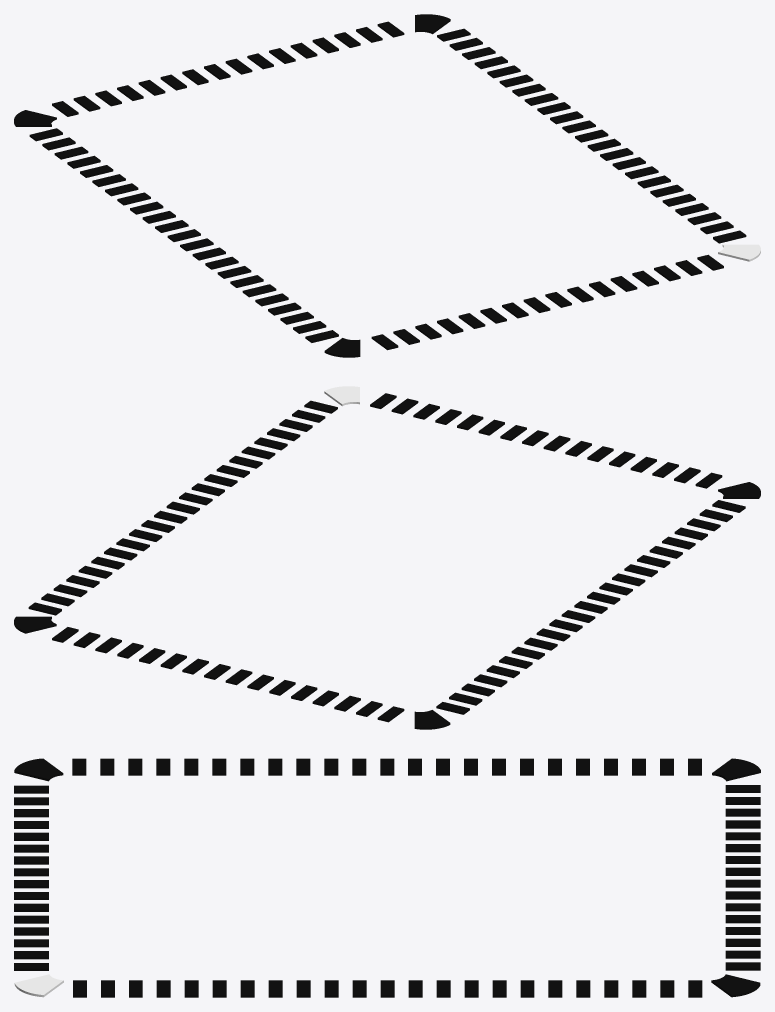
Rendered from T5_stage_border_XE.glb.
3 renders of one model, top to bottom at view 1: azimuth 30°, elevation 25°; view 2: azimuth 150°, elevation 25°; view 3: azimuth 270°, elevation 25°, orthographic. The views are drawn at different scales.
Visible parts, largest first — view 1: Stage_Flat; view 2: Stage_Flat; view 3: Stage_Flat.
Boxes of the visible parts, x1=… form: Stage_Flat: x1=14, y1=14, x2=760, y2=357; Stage_Flat: x1=14, y1=386, x2=760, y2=729; Stage_Flat: x1=14, y1=758, x2=760, y2=997.
Bounding box in the file's own units: 0.8002 × 0.0035 × 1.07.
1 material, 1 textured.
